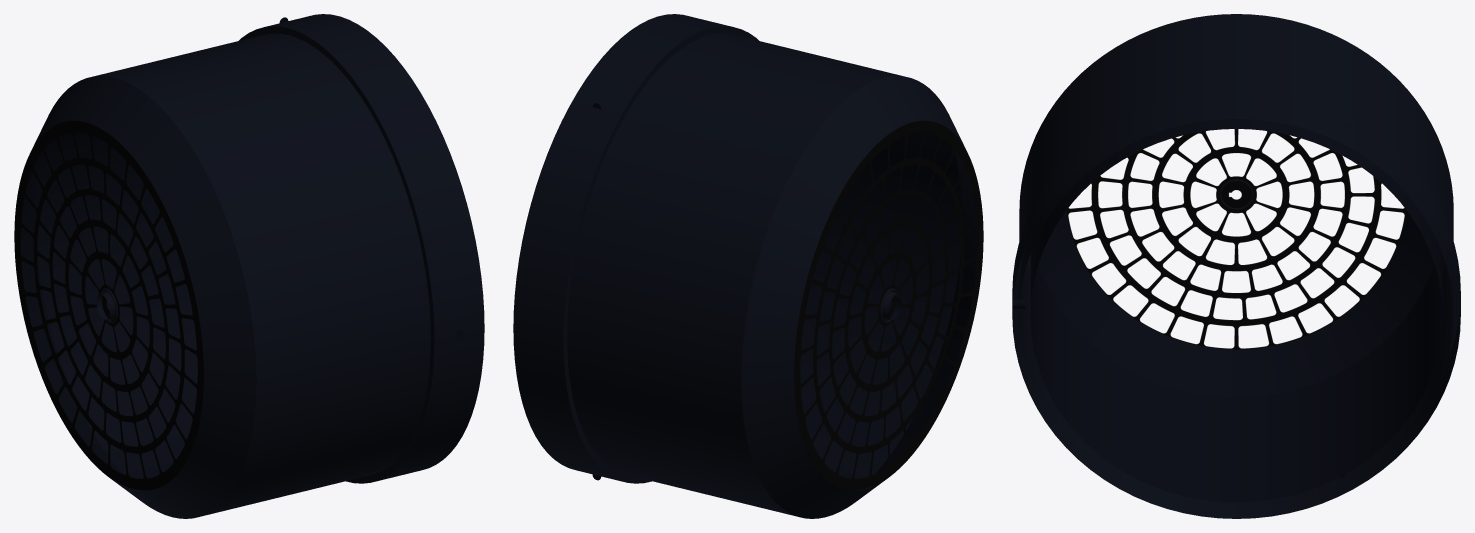
File: motor-cover-procedural-black.glb
The picture shows the model from 3 angles, left to right: view 1: azimuth 30°, elevation 25°; view 2: azimuth 150°, elevation 25°; view 3: azimuth 270°, elevation 25°; orthographic projection. The views are drawn at different scales.
Parts seen in each view (by area): view 1: outer-tube, inner-tube, front-cone, bump-wall, grille-net-disc, front-cone-inner, bump-shoulder; view 2: outer-tube, inner-tube, front-cone, bump-wall, grille-net-disc, front-cone-inner, bump-shoulder; view 3: inner-tube, outer-tube, front-cone-inner, grille-net-disc, bump-wall, bump-shoulder.
Part boxes in pixels (x1=…): outer-tube: x1=39, y1=33, x2=430, y2=516; inner-tube: x1=35, y1=132, x2=197, y2=478; front-cone: x1=14, y1=76, x2=256, y2=518; bump-wall: x1=265, y1=14, x2=484, y2=481; grille-net-disc: x1=14, y1=121, x2=203, y2=490; front-cone-inner: x1=20, y1=120, x2=203, y2=490; bump-shoulder: x1=239, y1=26, x2=434, y2=483; outer-tube: x1=567, y1=33, x2=958, y2=516; inner-tube: x1=800, y1=132, x2=962, y2=478; front-cone: x1=741, y1=76, x2=983, y2=518; bump-wall: x1=513, y1=14, x2=732, y2=481; grille-net-disc: x1=794, y1=121, x2=983, y2=490; front-cone-inner: x1=794, y1=120, x2=977, y2=490; bump-shoulder: x1=563, y1=26, x2=758, y2=483; inner-tube: x1=1030, y1=119, x2=1442, y2=502; outer-tube: x1=1019, y1=14, x2=1453, y2=512; front-cone-inner: x1=1039, y1=210, x2=1434, y2=397; grille-net-disc: x1=1067, y1=129, x2=1406, y2=349; bump-wall: x1=1012, y1=89, x2=1460, y2=518; bump-shoulder: x1=1013, y1=250, x2=1460, y2=377.
Size of the model in its own units: 1.32 by 2.02 by 2.02.
3 materials, 1 textured.
